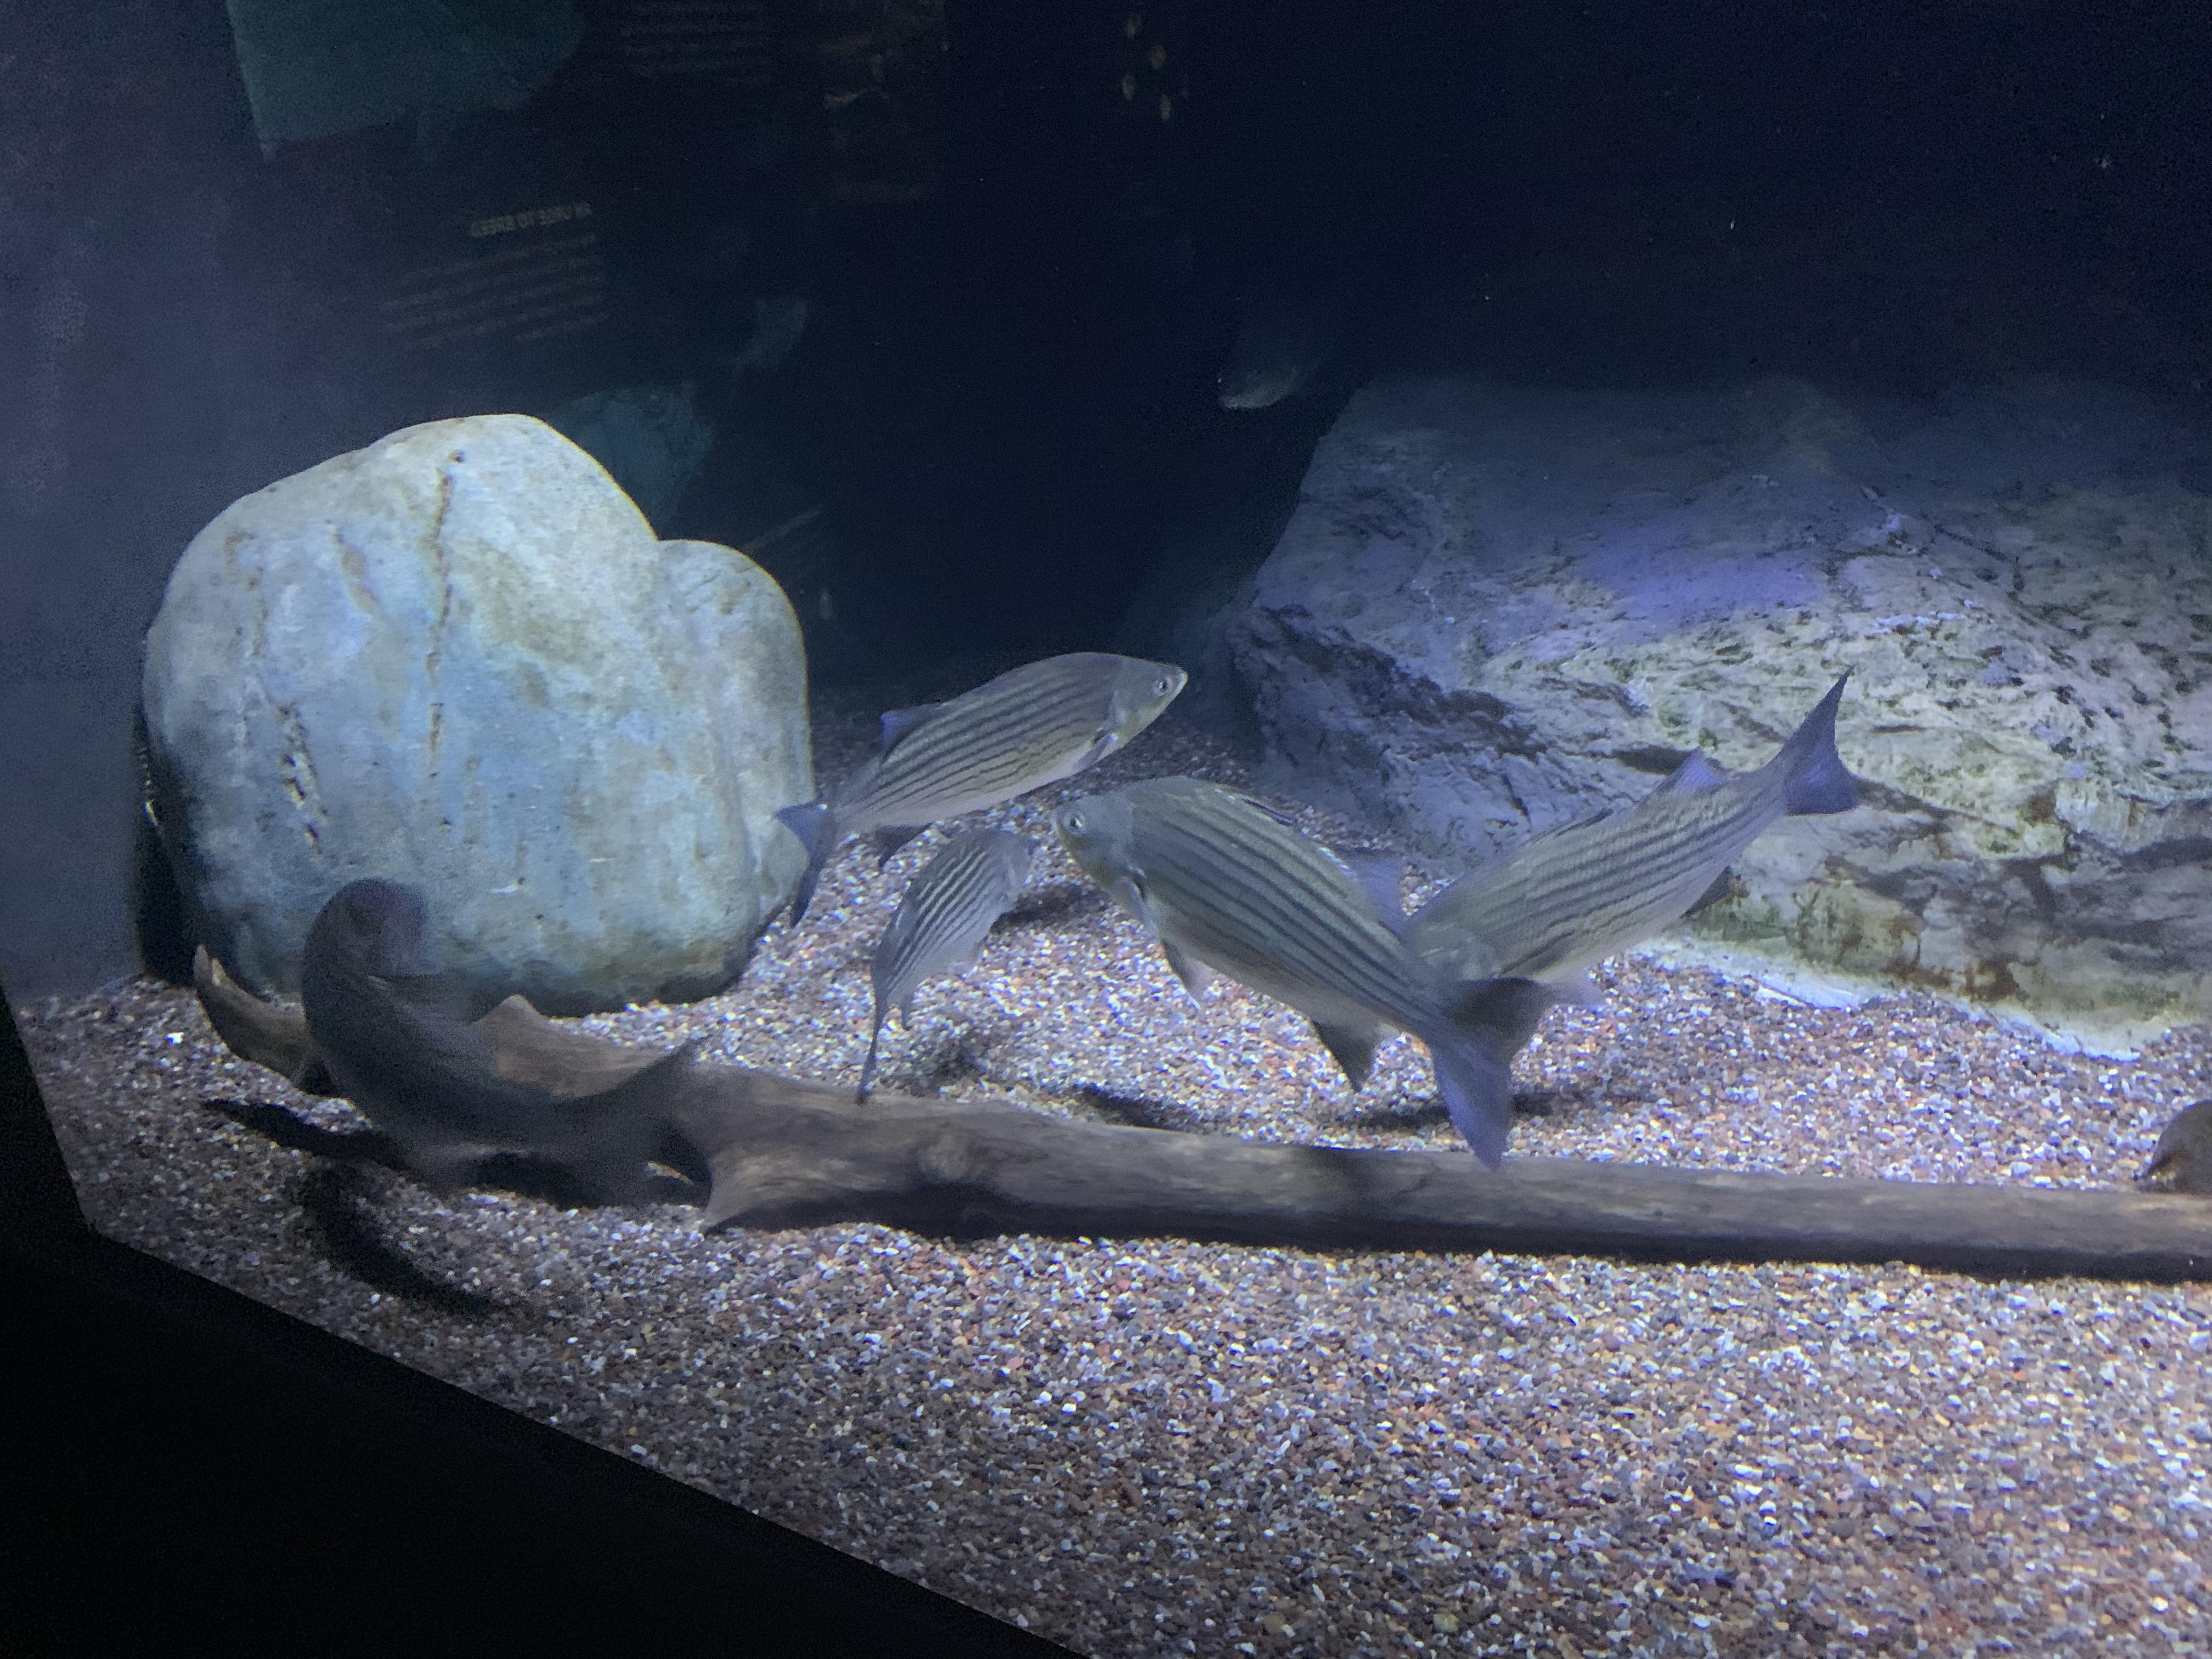fish: (1049, 770, 1587, 1182), (1381, 662, 1886, 1016), (284, 875, 719, 1218), (766, 645, 1195, 938), (852, 826, 1047, 1110), (1214, 272, 1357, 418)
